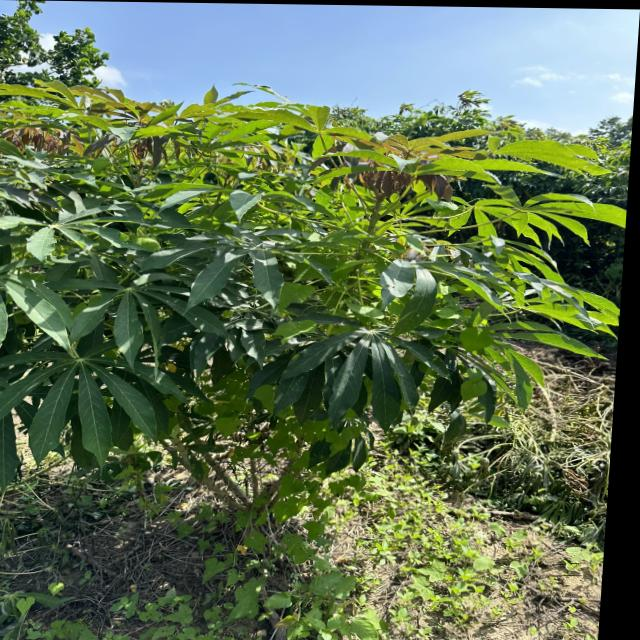Maleza: (222, 396, 395, 623)
Mosca: (153, 282, 176, 298), (98, 377, 118, 394), (138, 294, 151, 313), (418, 314, 431, 327)
